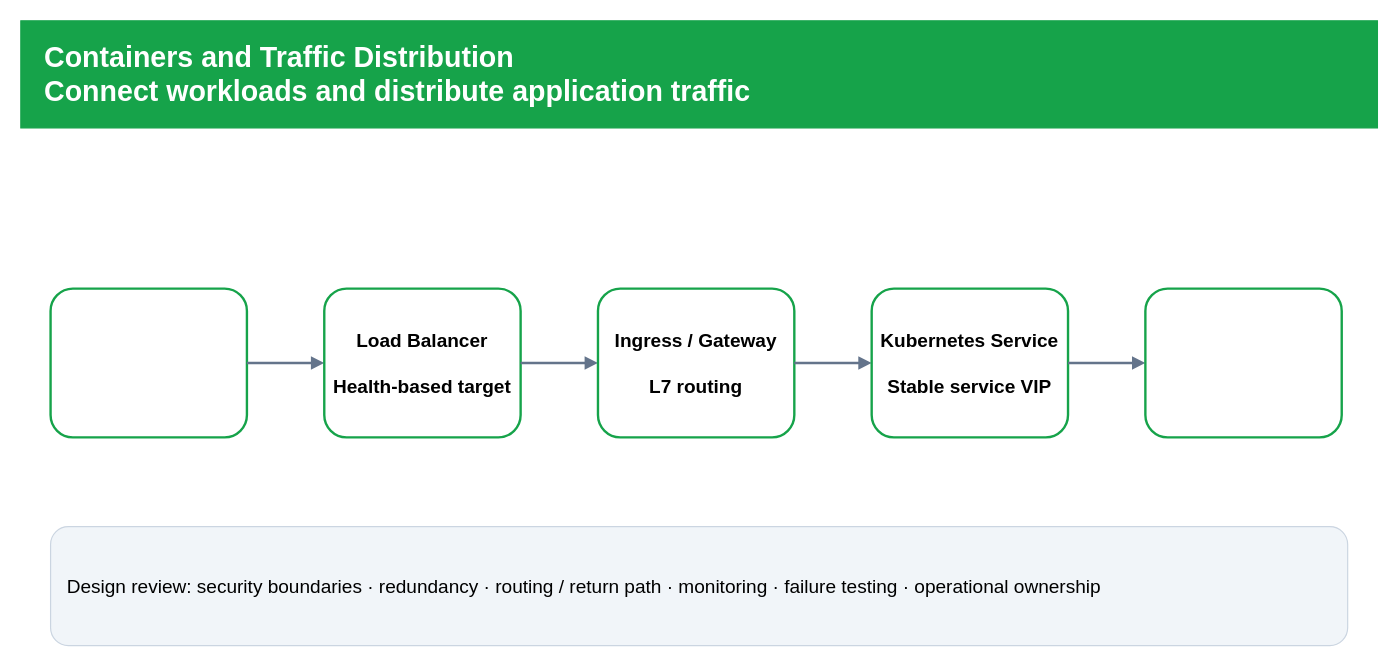
Some shapes in this 1398 by 666 pixel diagram are drawn without their labels. The centre of each missing label's shape, as x and y in pixels:
"Client / Edge DNS / CDN" belongs at point (148, 362).
"Pods / Workloads Pod network / CNI" belongs at point (1243, 362).
